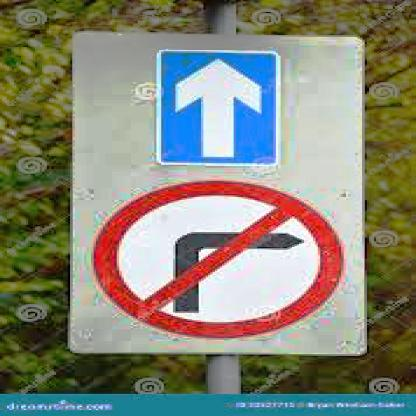No right turn: (88, 173, 354, 330)
